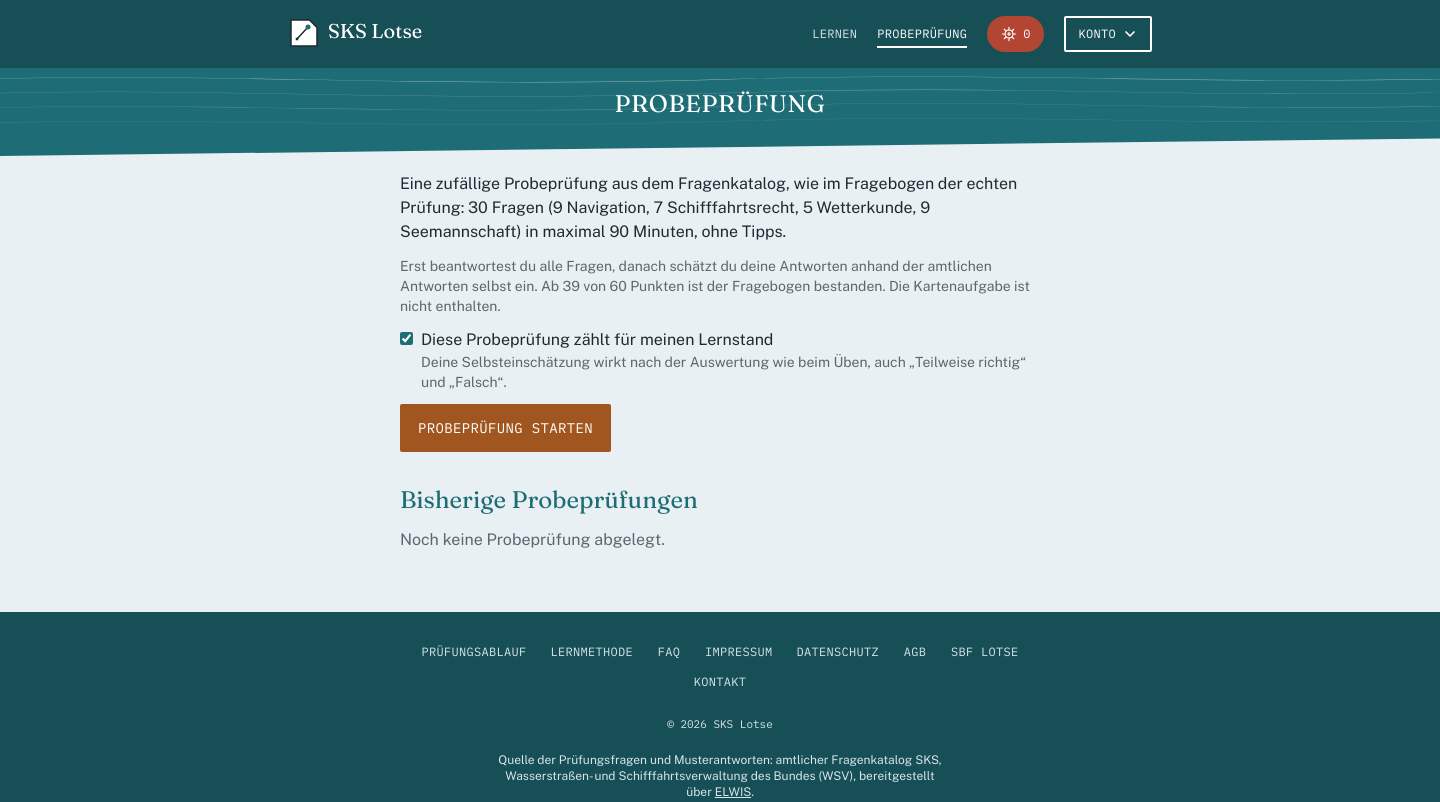
Scenario: ExamPage › reports a failed start, including the "already running" conflict
Click the button "Probeprüfung starten". click: [506, 428]
box: [400, 404, 611, 452]
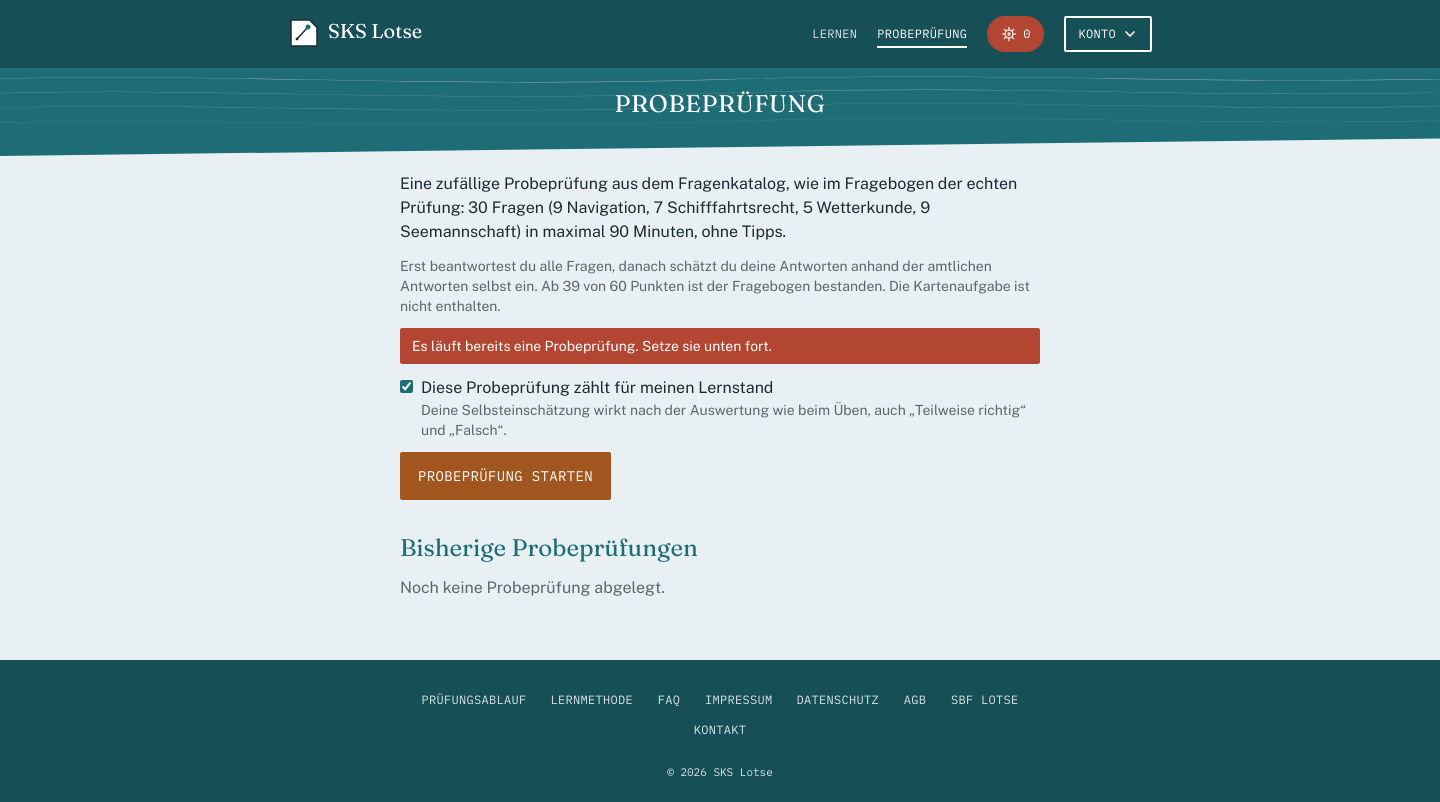
Check: the message shows "Es läuft bereits eine Probeprüfung", box [412, 338, 772, 354]
Click the button "Probeprüfung starten". click: [506, 476]
box: [400, 452, 611, 500]
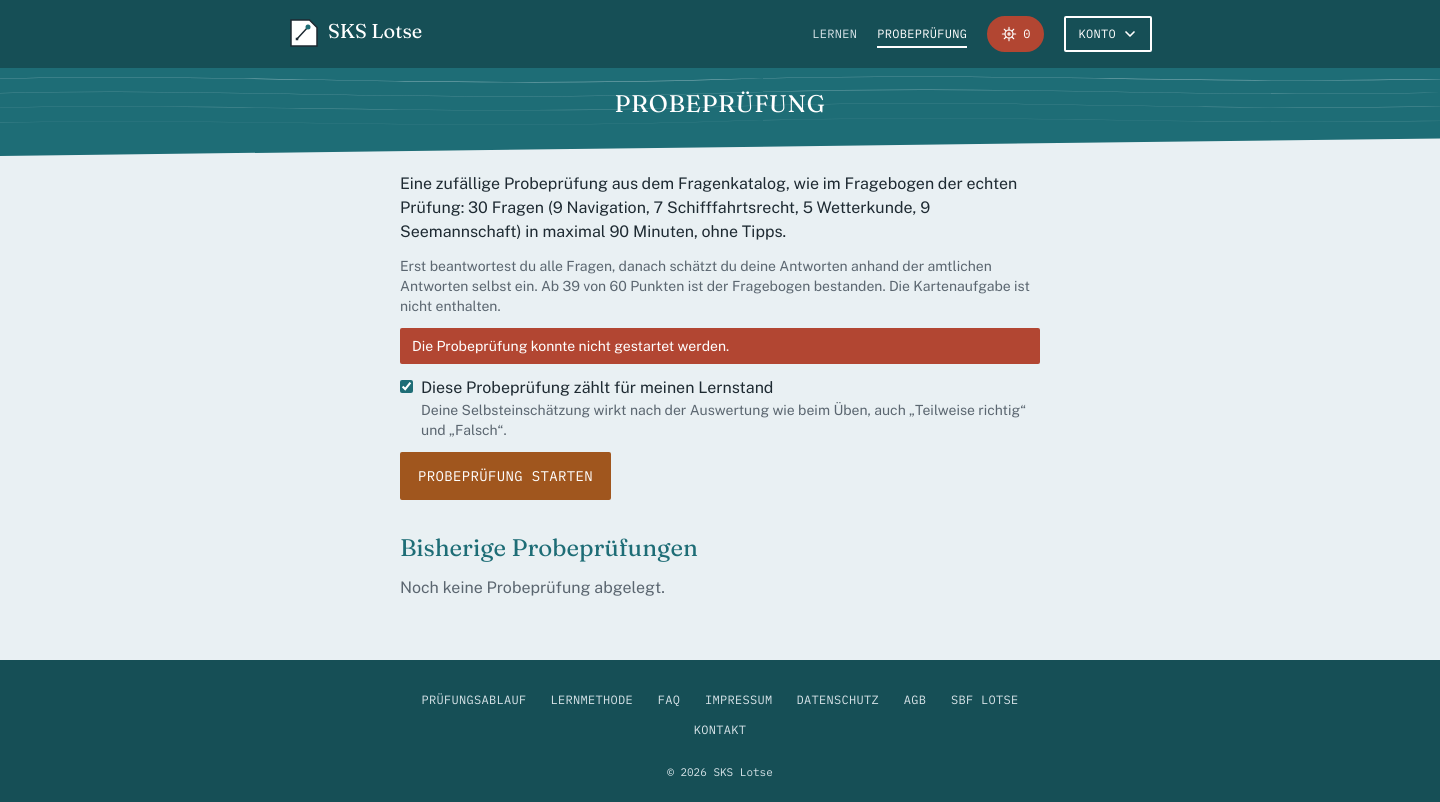
Check: the text "Die Probeprüfung konnte nicht gestartet werden." is shown, box [412, 336, 729, 356]
